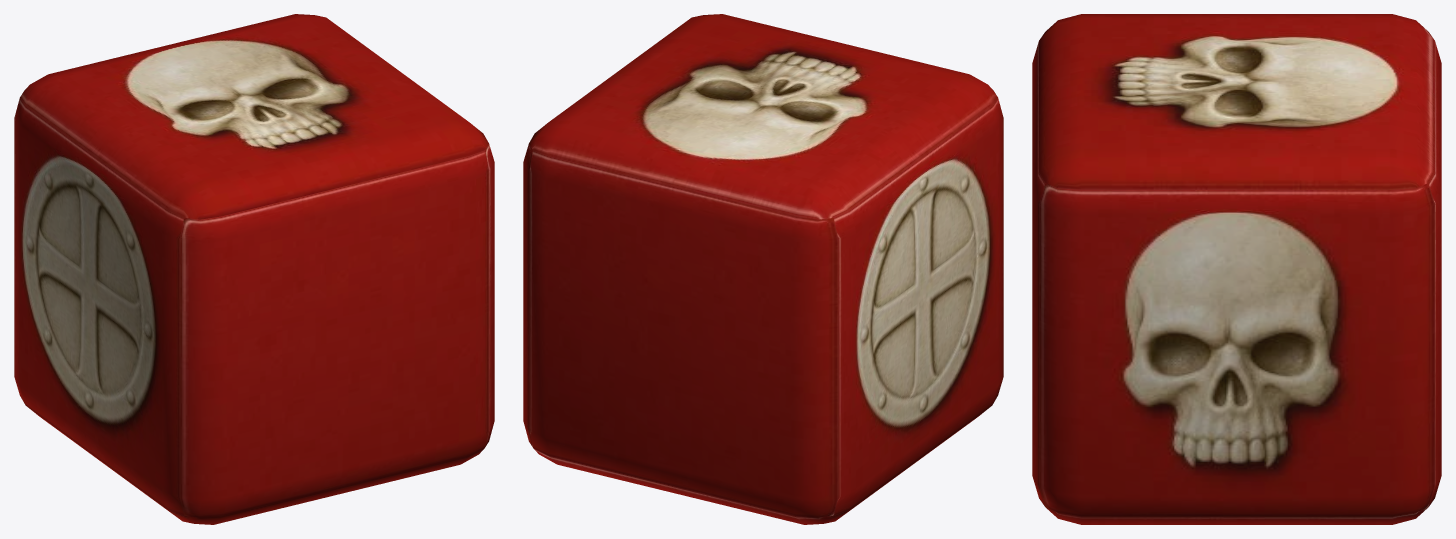
Rendered from die.glb.
3 views of the same model, side by side, from view 1: azimuth 30°, elevation 25°; view 2: azimuth 150°, elevation 25°; view 3: azimuth 270°, elevation 25° (orthographic). The views are drawn at different scales.
Visible parts, largest first — view 1: die; view 2: die; view 3: die.
Part boxes in pixels (box(x1,y1,x2,y2)): die: box(14, 14, 494, 524); die: box(523, 14, 1003, 524); die: box(1032, 14, 1441, 524).
Bounding box in the file's own units: 0.16 × 0.16 × 0.16.
1 material, 1 textured.
